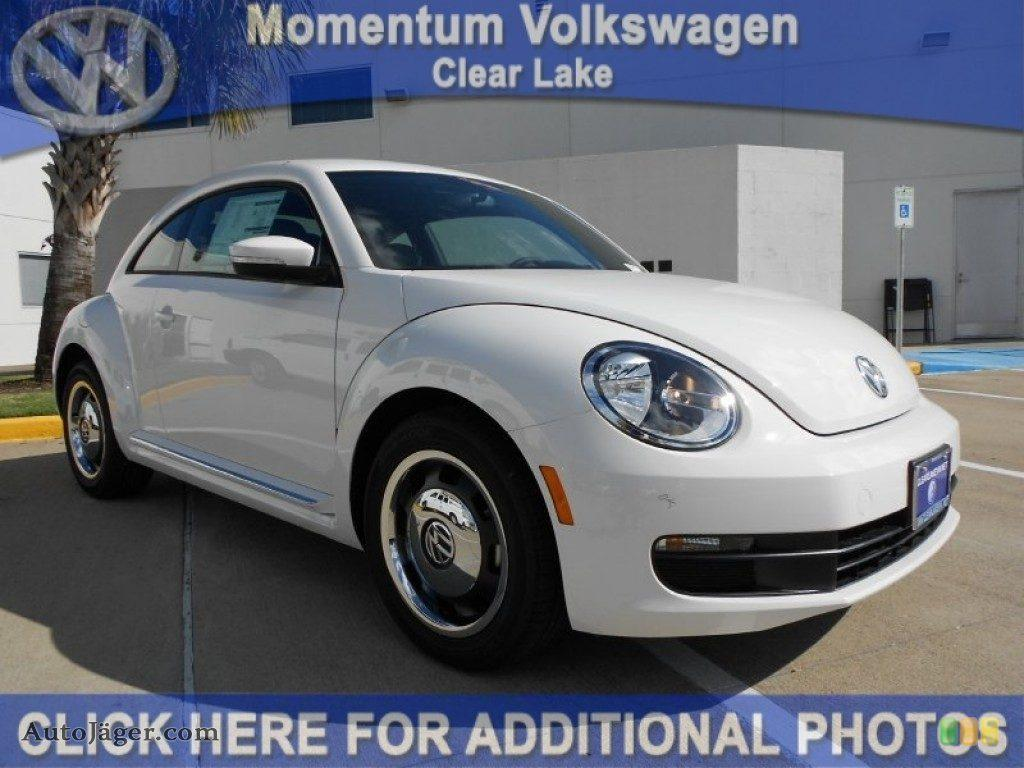Hatchback: (50, 155, 962, 670)
